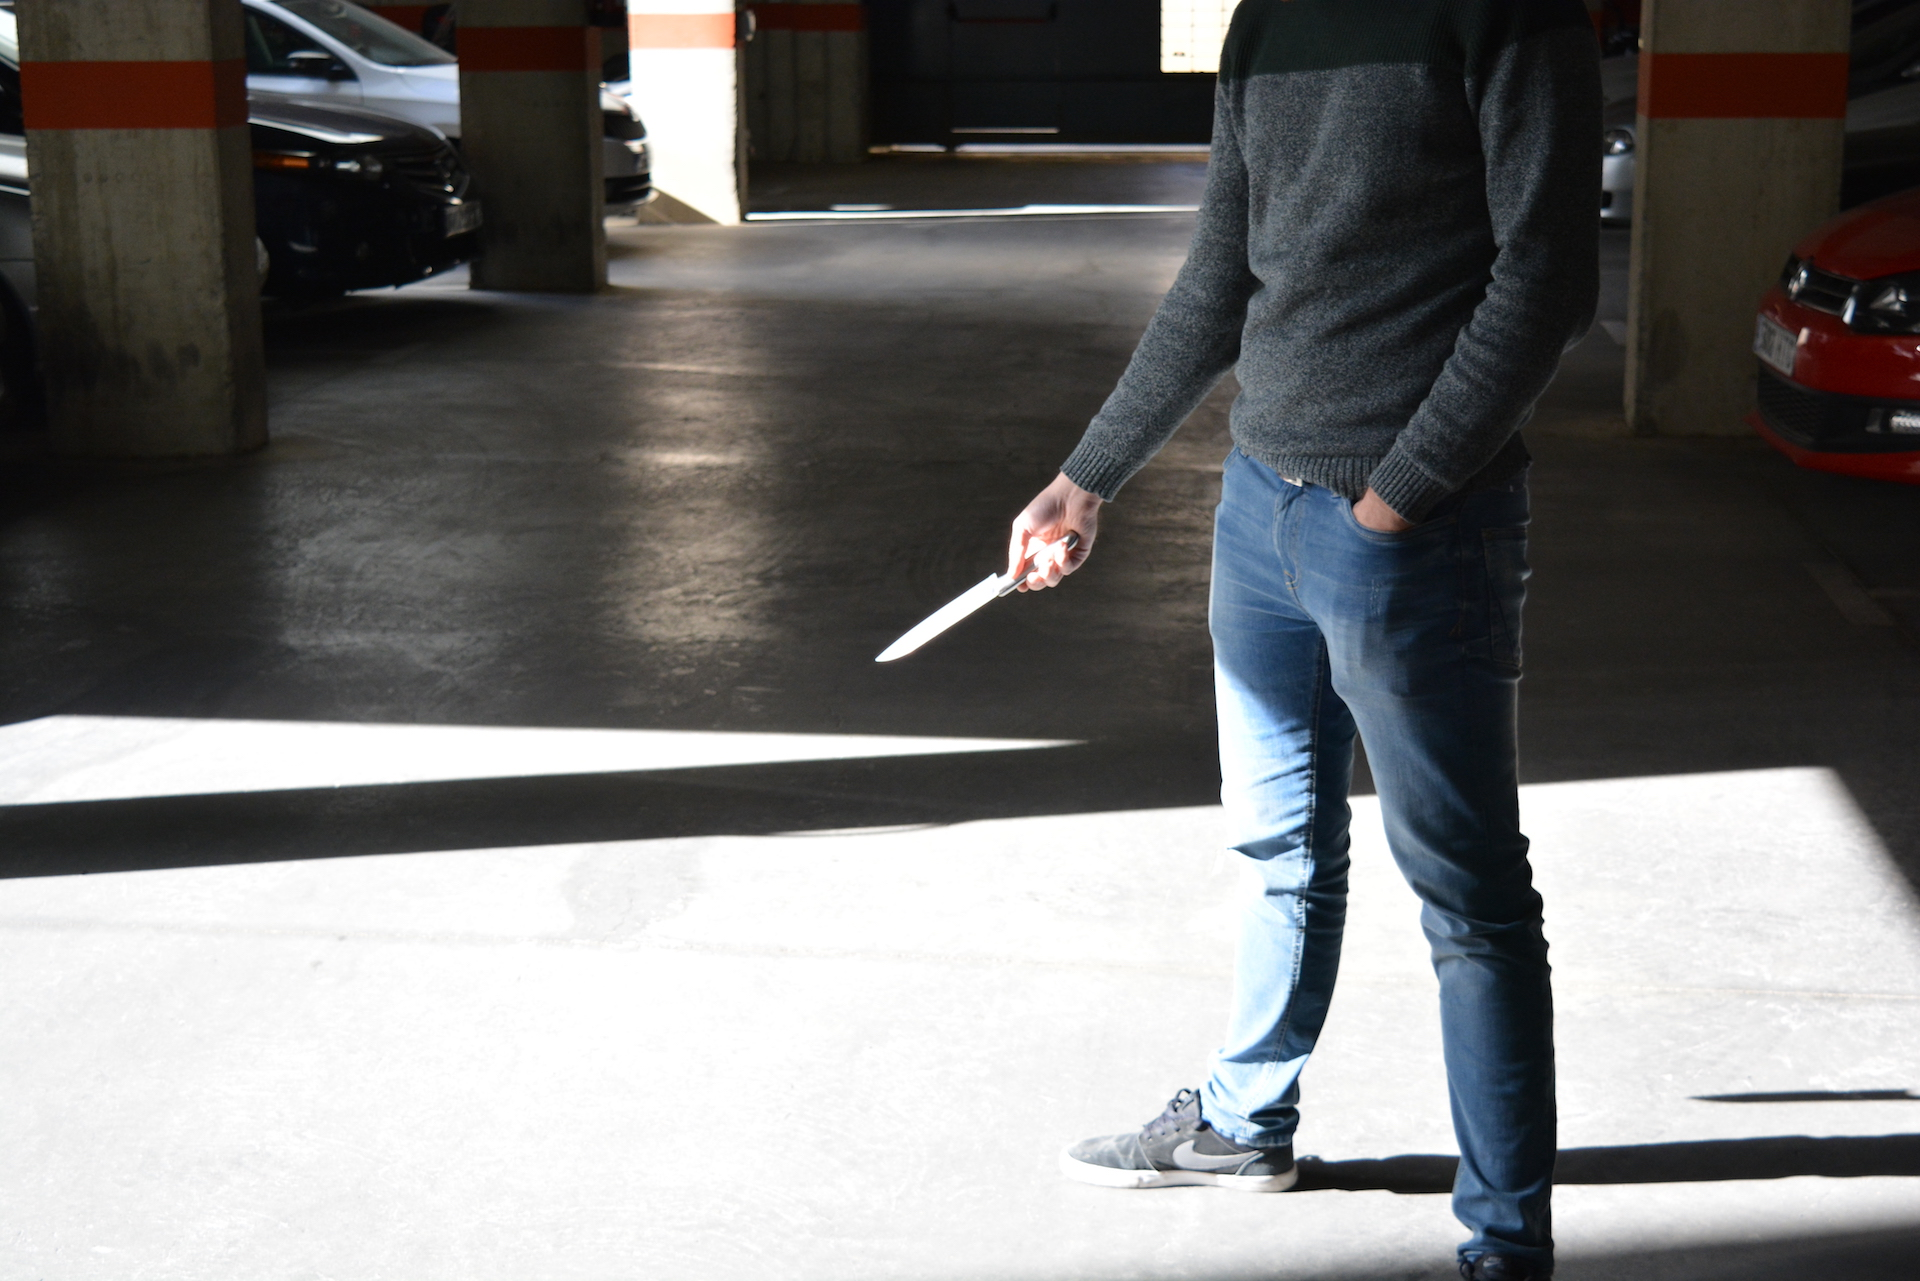knife: (862, 520, 1087, 673)
